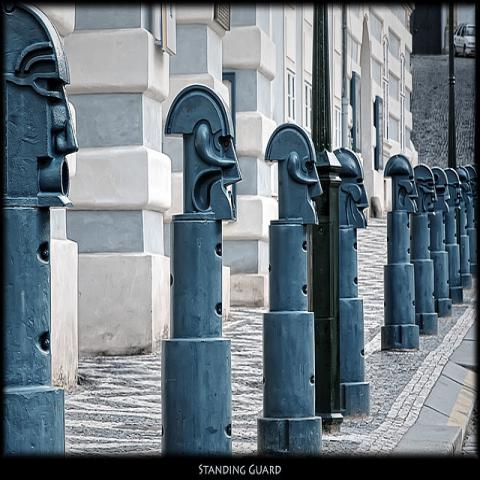car: (455, 23, 475, 57)
